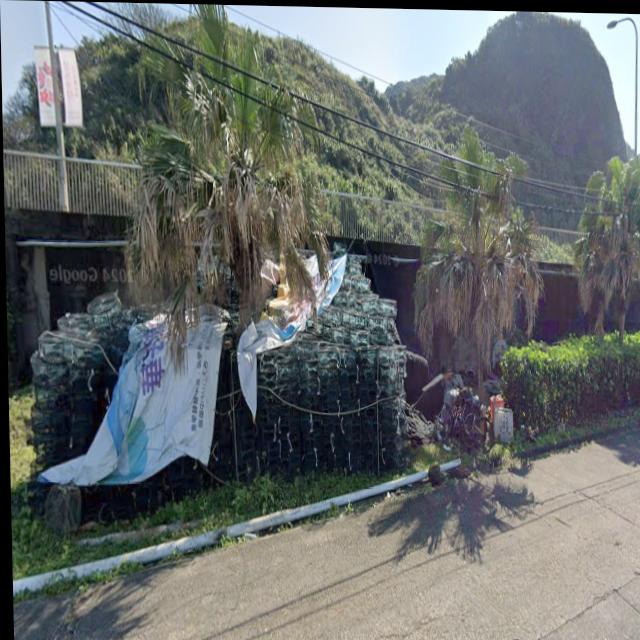pollute: (217, 245, 410, 490), (486, 389, 513, 443)
